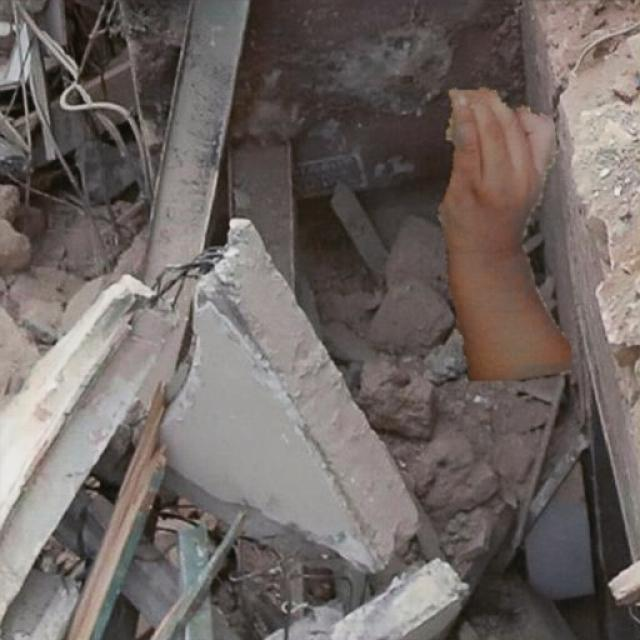Person in Rubble: (438, 87, 570, 380)
